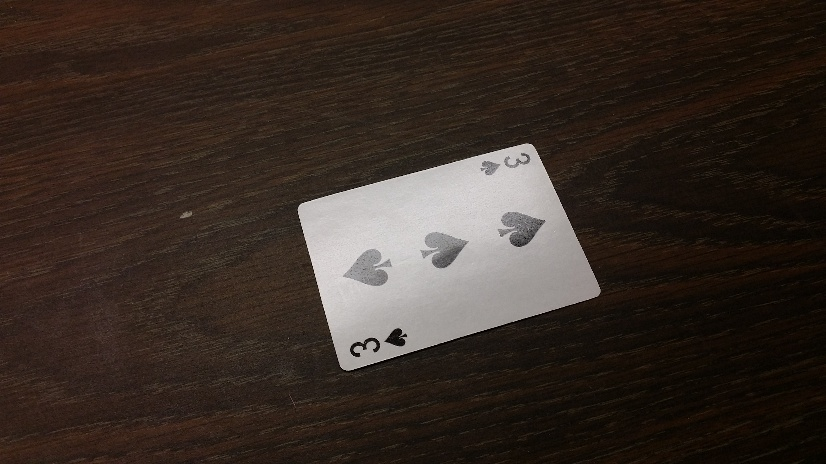S3: (346, 327, 410, 356), (480, 151, 532, 178)
